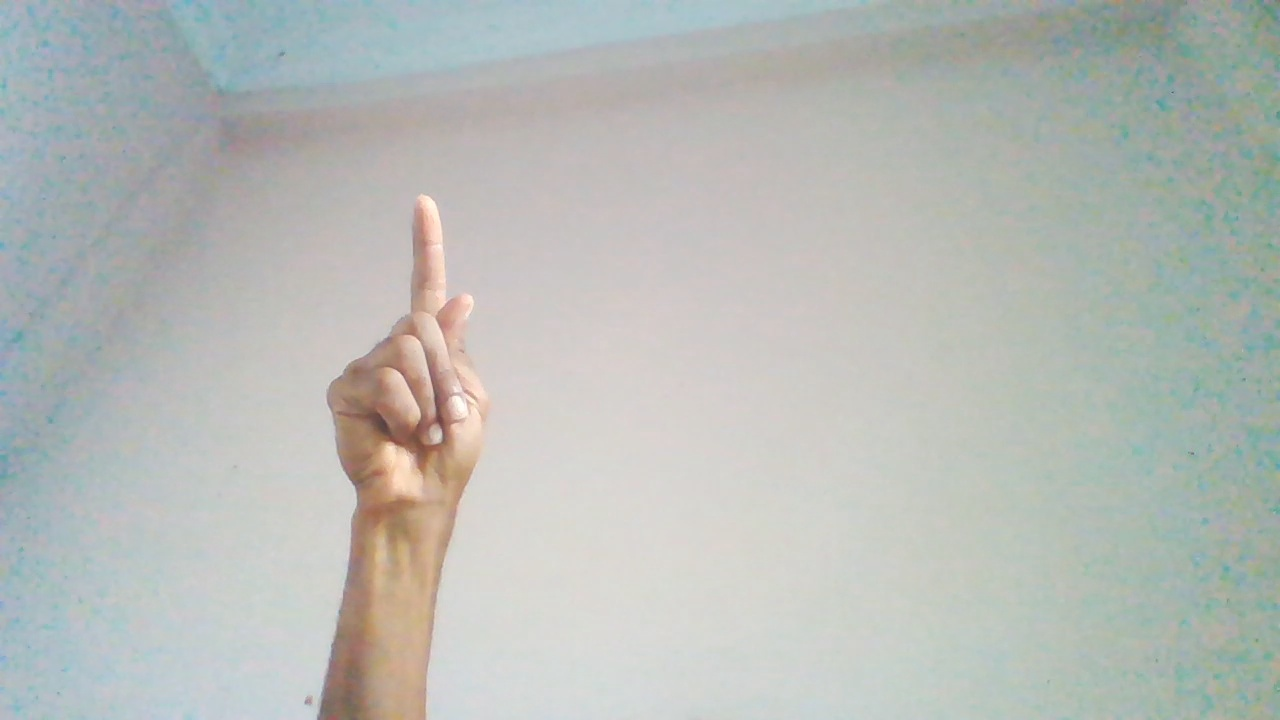ne: (323, 194, 485, 583)
